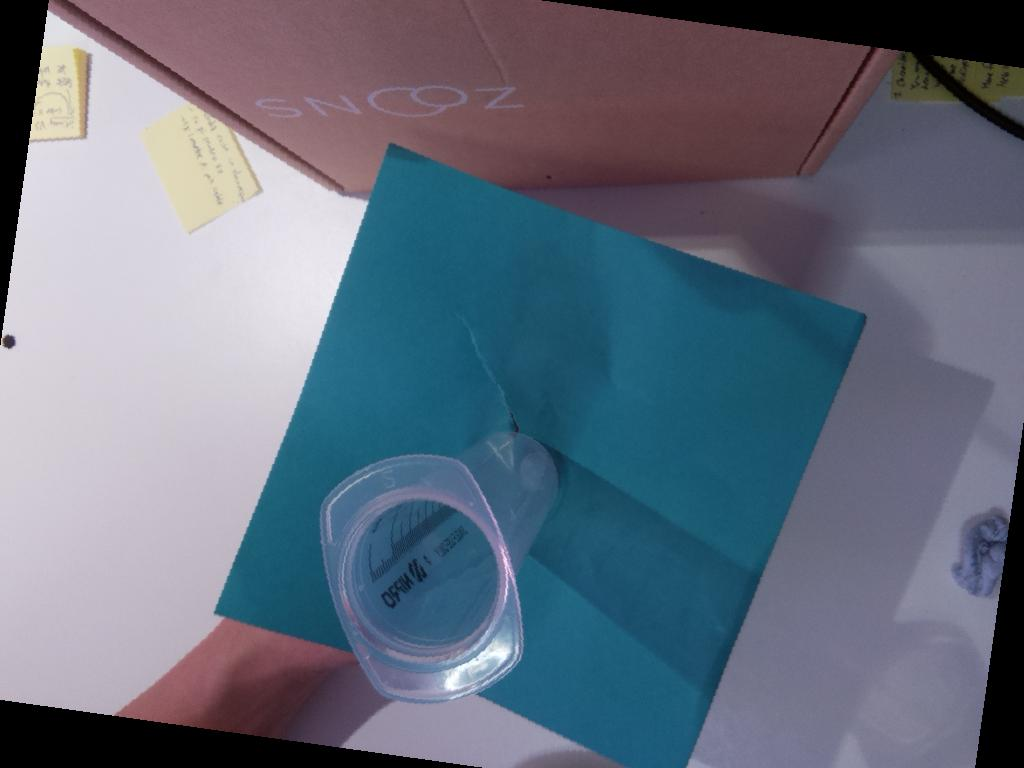clean: (315, 450, 529, 704)
